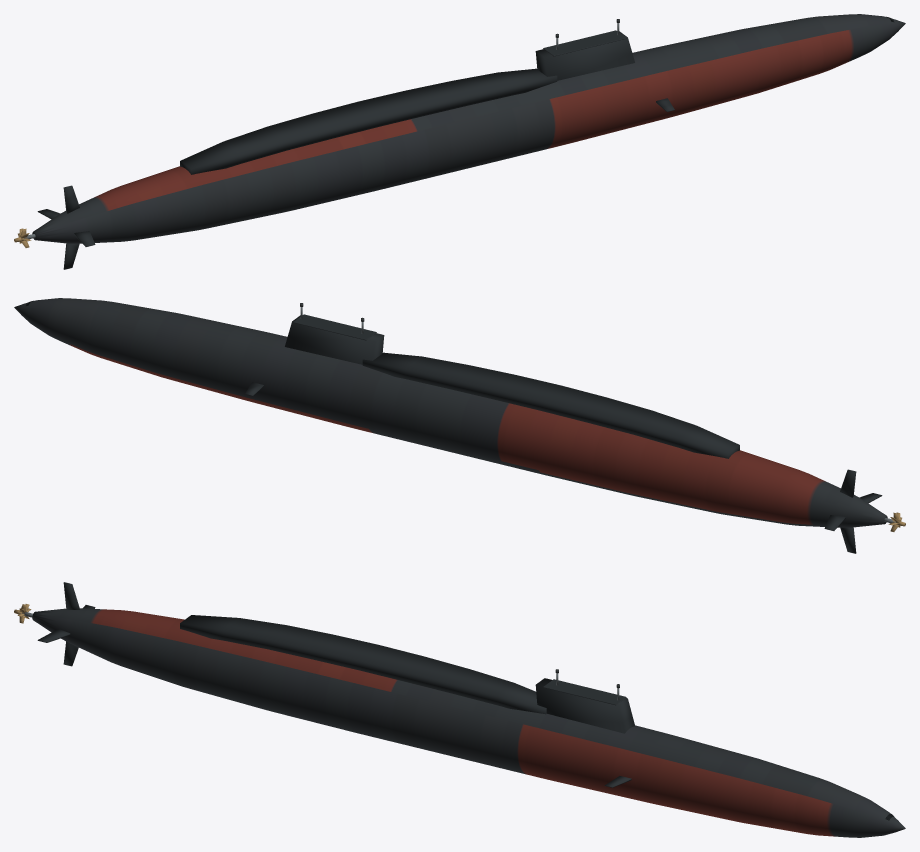
The model's file is RU_SSBN_DeltaIII_LOD1.fbx.
3 renders of one model, top to bottom at view 1: azimuth 30°, elevation 25°; view 2: azimuth 150°, elevation 25°; view 3: azimuth 330°, elevation 25°, orthographic.
Parts seen in each view (by area): view 1: RU_SSBN_DeltaIII_LOD1; view 2: RU_SSBN_DeltaIII_LOD1; view 3: RU_SSBN_DeltaIII_LOD1.
Part boxes in pixels (x1=…): RU_SSBN_DeltaIII_LOD1: x1=14, y1=14, x2=905, y2=269; RU_SSBN_DeltaIII_LOD1: x1=14, y1=298, x2=905, y2=553; RU_SSBN_DeltaIII_LOD1: x1=14, y1=582, x2=905, y2=837.
Size of the model in its own units: 170 by 20.56 by 20.9.
6 materials, 1 textured.
